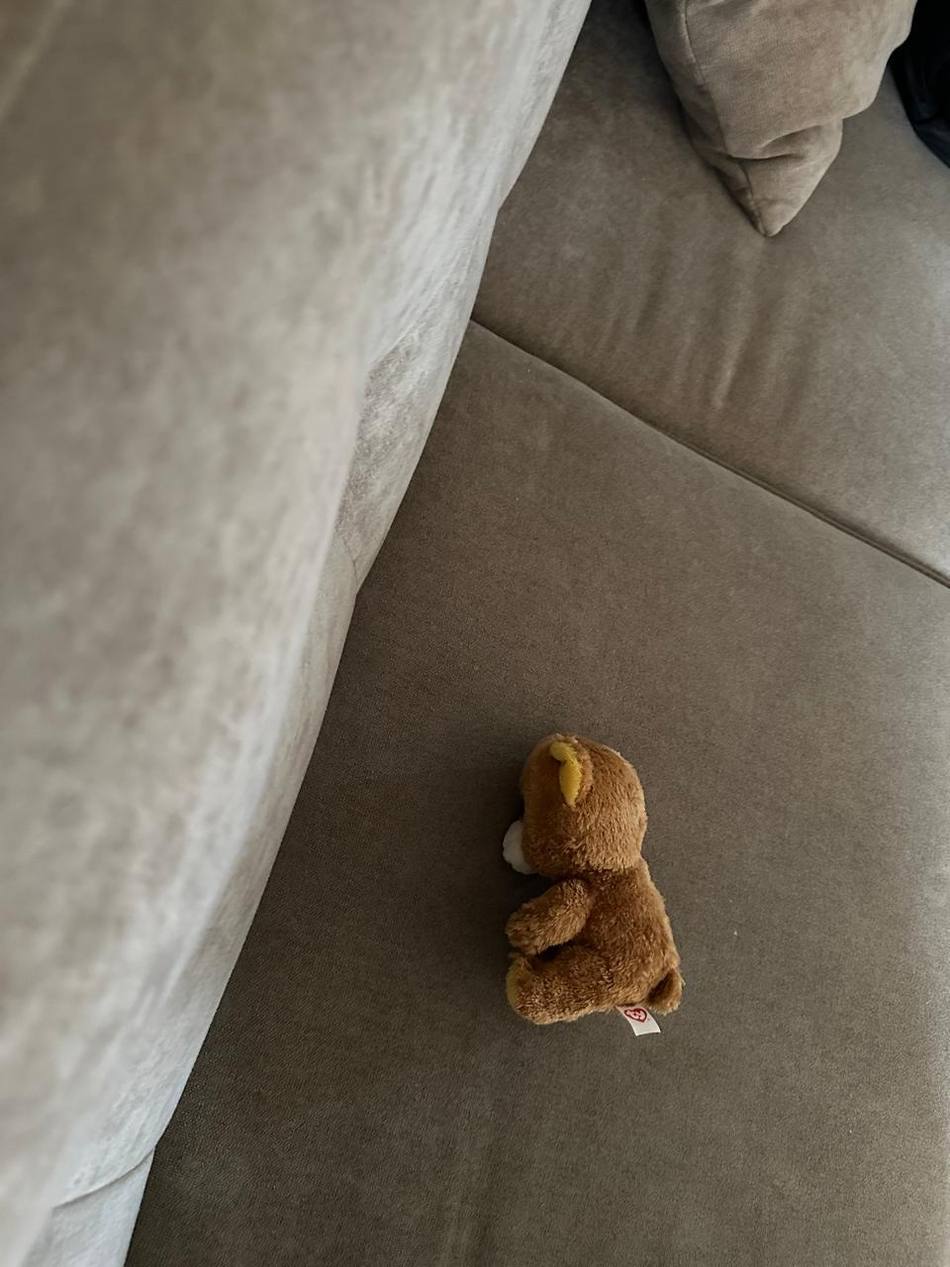peluche_sebastian: (495, 725, 688, 1034)
